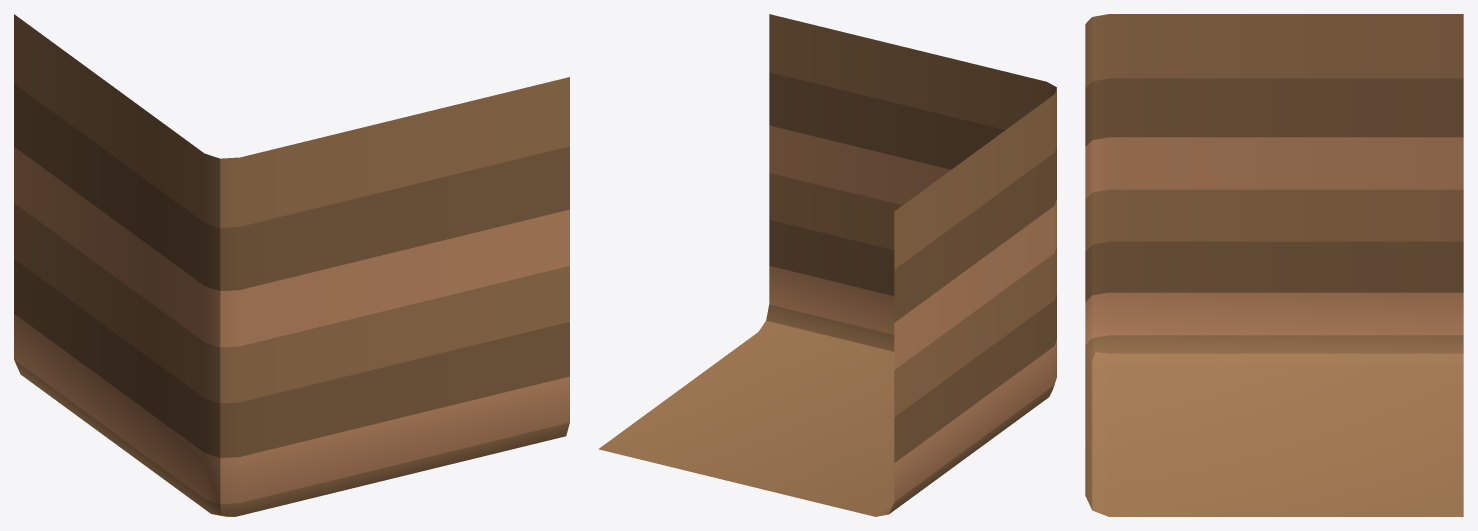
File: cube_grass_cornerbottom_tall.glb
3 views of the same model, side by side, from view 1: azimuth 30°, elevation 25°; view 2: azimuth 150°, elevation 25°; view 3: azimuth 270°, elevation 25° (orthographic). The views are drawn at different scales.
Visible parts, largest first — view 1: Cube_Grass_CornerBottom_Tall; view 2: Cube_Grass_CornerBottom_Tall; view 3: Cube_Grass_CornerBottom_Tall.
Boxes of the visible parts, x1=… form: Cube_Grass_CornerBottom_Tall: x1=14, y1=14, x2=569, y2=516; Cube_Grass_CornerBottom_Tall: x1=598, y1=14, x2=1056, y2=516; Cube_Grass_CornerBottom_Tall: x1=1085, y1=14, x2=1463, y2=516.
Bounding box in the file's own units: 2 × 2 × 2.
